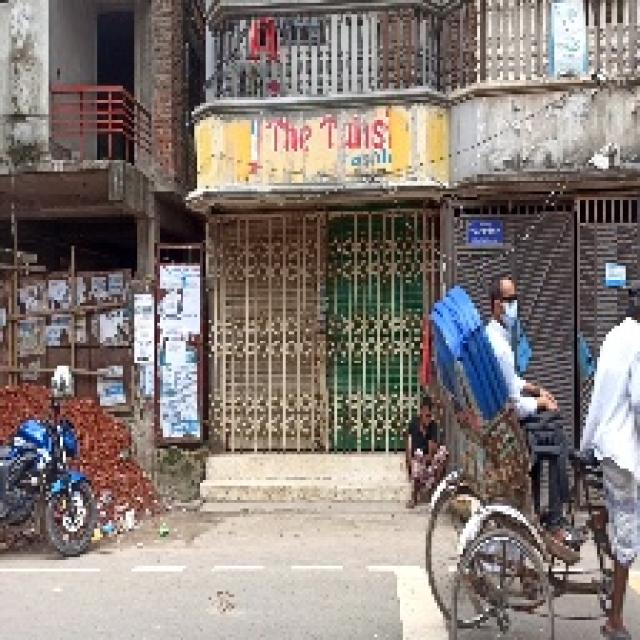bike: (1, 387, 101, 557)
rickshaw: (412, 262, 628, 623)
